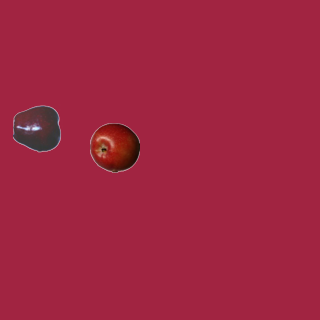Apple Braeburn: (89, 122, 139, 172)
Apple Red Delicious: (12, 103, 62, 153)
